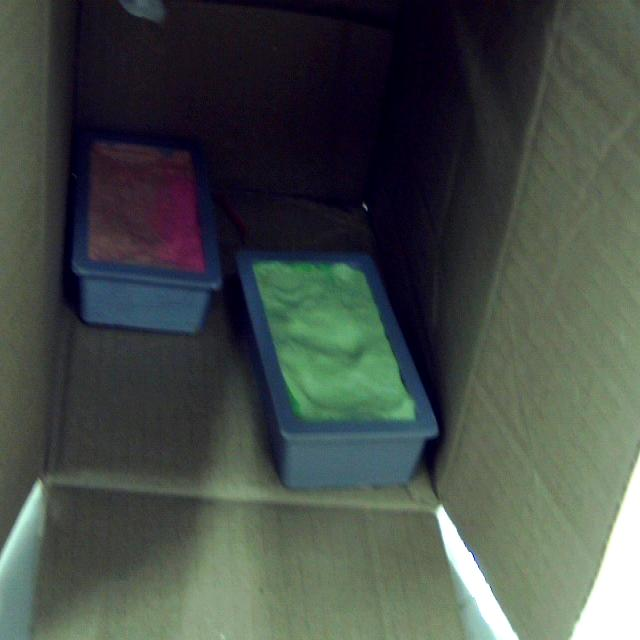block: (231, 244, 442, 490), (68, 128, 227, 334)
